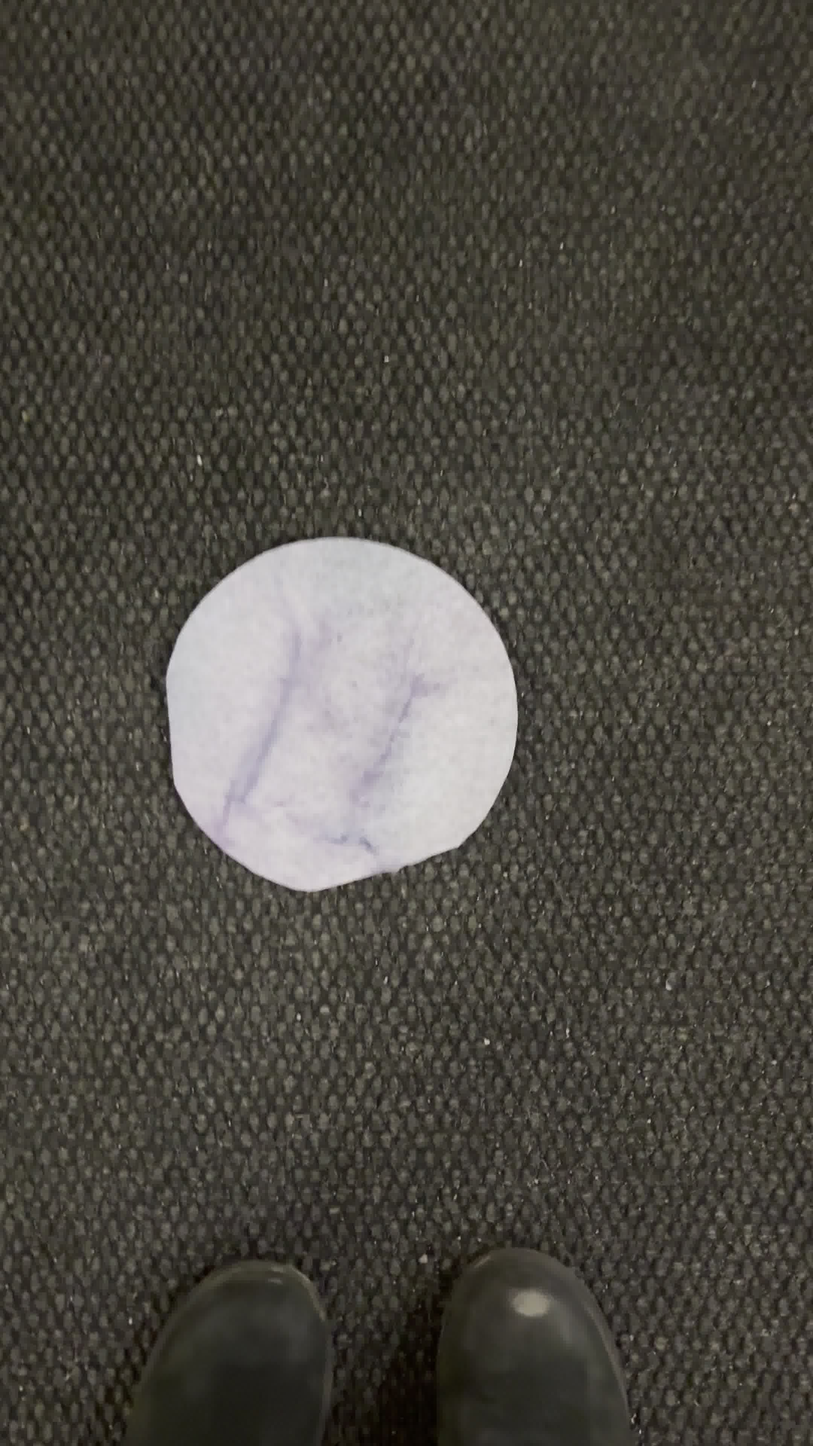Target: (165, 528, 520, 895)
